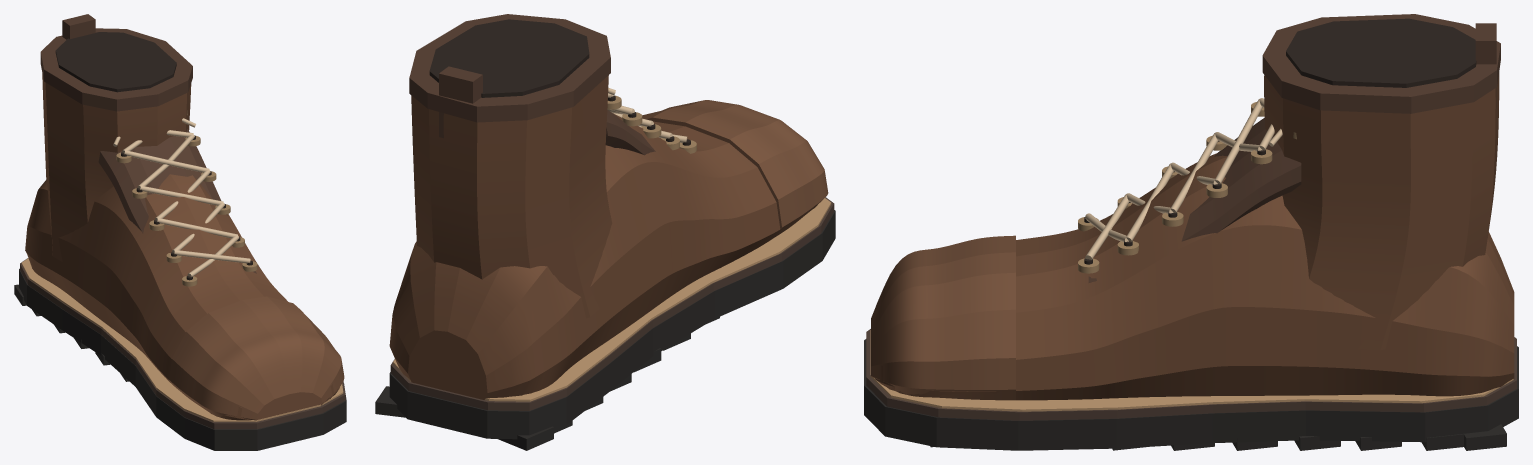
Rendered from daniel_work_boot_left.glb.
3 renders of one model, left to right at view 1: azimuth 30°, elevation 25°; view 2: azimuth 150°, elevation 25°; view 3: azimuth 270°, elevation 25°, orthographic. The views are drawn at different scales.
Visible parts, largest first — view 1: Leather toe and vamp, Burnished toe cap, Shaped leather ankle, Continuous rubber outsole, Dark collar lining, Padded collar edge, Rising leather tongue, Ochre welt seam, Leather welt, Heel pull tab; view 2: Leather toe and vamp, Shaped leather ankle, Continuous rubber outsole, Burnished toe cap, Dark collar lining, Padded collar edge, Ochre welt seam, Leather welt, Heel pull tab, Rising leather tongue, Outsole tread lug.018, Outsole tread lug.019; view 3: Leather toe and vamp, Shaped leather ankle, Burnished toe cap, Continuous rubber outsole, Dark collar lining, Padded collar edge, Leather welt, Ochre welt seam, Rising leather tongue, Heel pull tab, Outsole tread lug.019.
Boxes of the visible parts, bbox=[...] form: Leather toe and vamp: bbox=[25, 174, 339, 420]; Burnished toe cap: bbox=[169, 296, 344, 420]; Shaped leather ankle: bbox=[42, 73, 191, 261]; Continuous rubber outsole: bbox=[19, 268, 346, 450]; Dark collar lining: bbox=[55, 32, 176, 92]; Padded collar edge: bbox=[40, 28, 192, 111]; Rising leather tongue: bbox=[98, 129, 256, 273]; Ochre welt seam: bbox=[21, 258, 343, 421]; Leather welt: bbox=[20, 258, 345, 429]; Heel pull tab: bbox=[62, 14, 95, 39]; Leather toe and vamp: bbox=[389, 113, 818, 399]; Shaped leather ankle: bbox=[411, 75, 612, 318]; Continuous rubber outsole: bbox=[389, 210, 835, 439]; Burnished toe cap: bbox=[642, 100, 828, 237]; Dark collar lining: bbox=[429, 19, 589, 97]; Padded collar edge: bbox=[409, 14, 610, 122]; Ochre welt seam: bbox=[393, 198, 831, 401]; Leather welt: bbox=[390, 197, 834, 410]; Heel pull tab: bbox=[439, 66, 482, 138]; Rising leather tongue: bbox=[605, 110, 655, 155]; Outsole tread lug.018: bbox=[498, 426, 553, 450]; Outsole tread lug.019: bbox=[375, 386, 405, 417]; Leather toe and vamp: bbox=[875, 153, 1514, 400]; Shaped leather ankle: bbox=[1264, 72, 1499, 350]; Burnished toe cap: bbox=[871, 235, 1015, 400]; Continuous rubber outsole: bbox=[864, 339, 1518, 450]; Dark collar lining: bbox=[1286, 18, 1476, 87]; Padded collar edge: bbox=[1262, 14, 1500, 113]; Leather welt: bbox=[866, 329, 1516, 420]; Ochre welt seam: bbox=[870, 330, 1513, 411]; Rising leather tongue: bbox=[1088, 118, 1301, 282]; Heel pull tab: bbox=[1475, 23, 1496, 108]; Outsole tread lug.019: bbox=[1464, 424, 1506, 450].
Size of the model in its own units: 0.1112 by 0.177 by 0.28.
